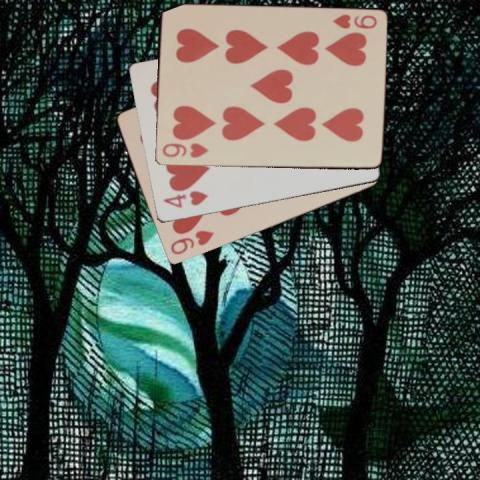4h: (160, 190, 210, 210)
9h: (167, 227, 215, 257), (329, 11, 378, 31), (159, 141, 209, 159)
